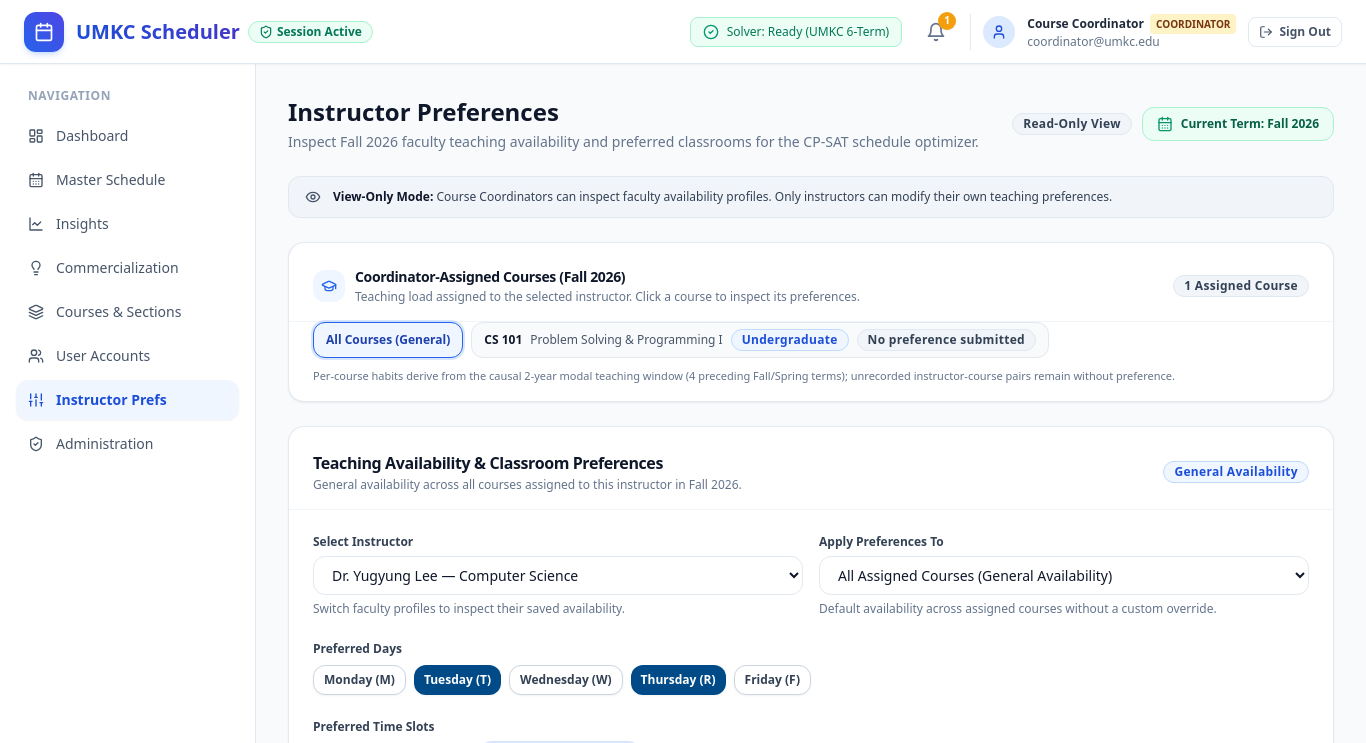
Login, Session Security Gate, RBAC & Coordinator Catalog/Section/Account CRUD › allows Course Coordinators to inspect /preferences in strict read-only mode across faculty profiles without mutation controls
Expected: the heading "Instructor Preferences" is shown, [288, 95, 559, 128]
Expected: the text "Instructor Prefs" is shown, [56, 390, 167, 410]
Select "Dr. Praveen Rao — Computer Science" in the dropdown with test id "instructor-select" at (558, 575), box [313, 556, 803, 594]
(page scrolled)
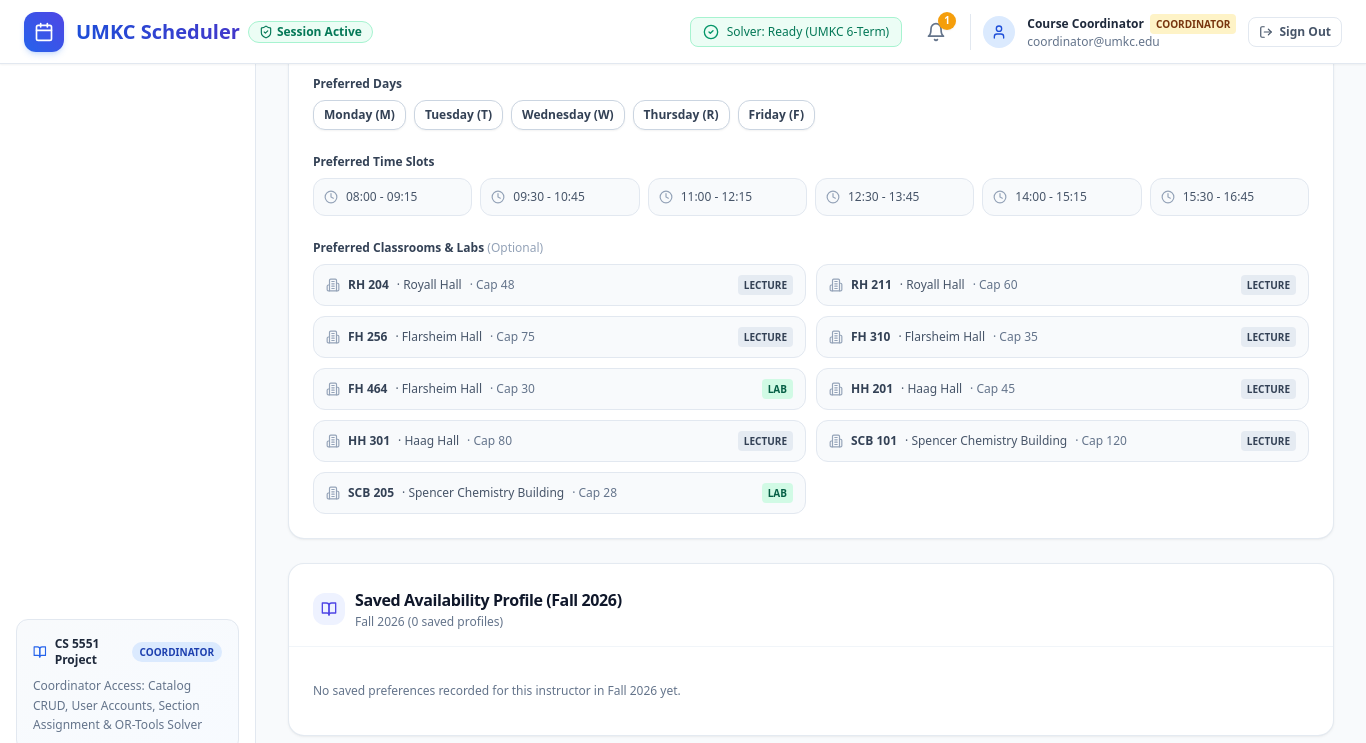
Now the text "No saved preferences recorded for this instructor in Fall 2026 yet." is shown, box [313, 682, 681, 698]
